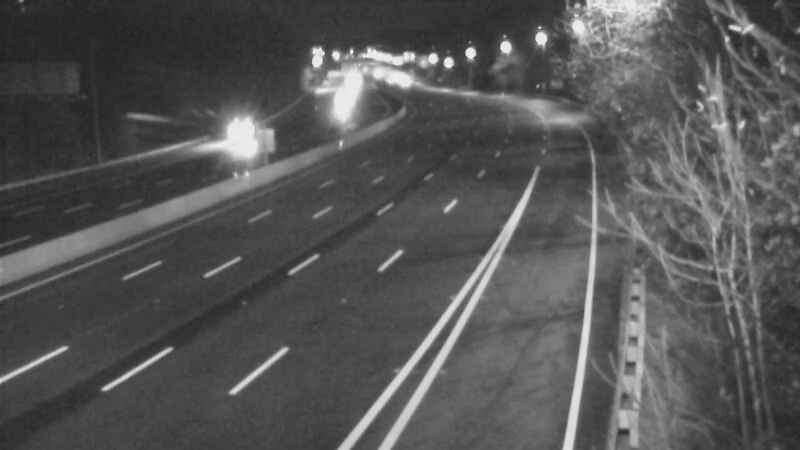vehicle: (380, 57, 430, 107), (215, 112, 265, 162), (316, 78, 366, 128)
